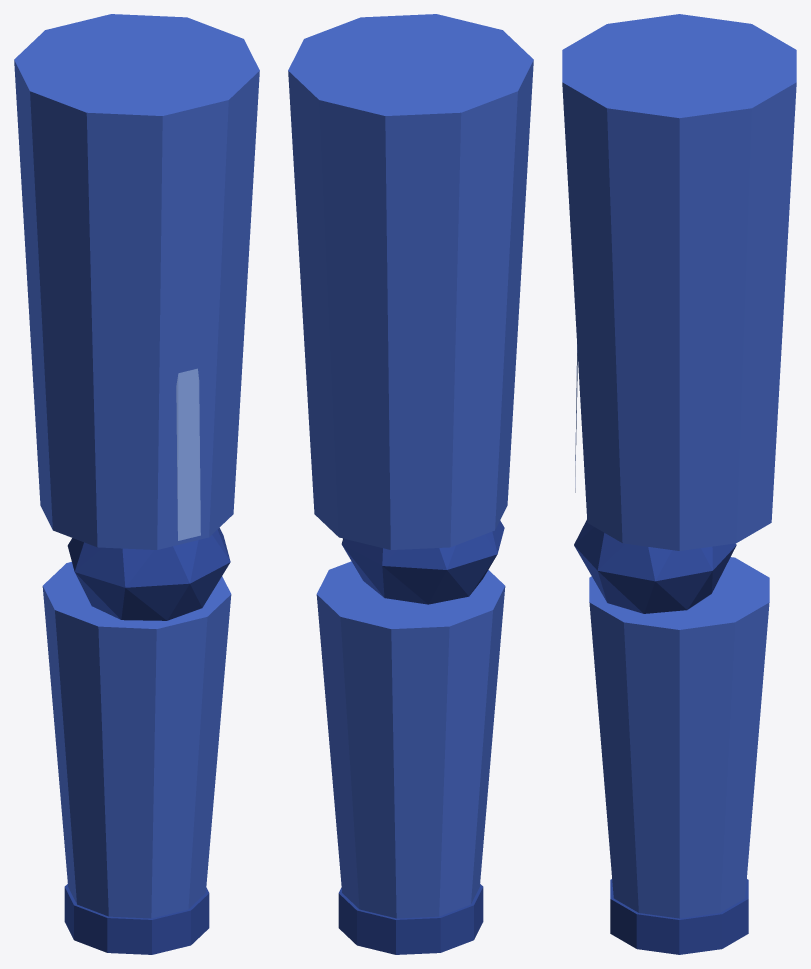
File: gear_mithril_legs_leg_l.glb
The picture shows the model from 3 angles, left to right: view 1: azimuth 30°, elevation 25°; view 2: azimuth 150°, elevation 25°; view 3: azimuth 270°, elevation 25°; orthographic projection.
Parts seen in each view (by area): view 1: gear_mithril_legs_leg_l; view 2: gear_mithril_legs_leg_l; view 3: gear_mithril_legs_leg_l.
Boxes of the visible parts, x1,y1,x2,y2 form: gear_mithril_legs_leg_l: (14,14,259,954); gear_mithril_legs_leg_l: (288,14,533,954); gear_mithril_legs_leg_l: (562,14,796,954).
Size of the model in its own units: 0.224 by 0.86 by 0.213.
